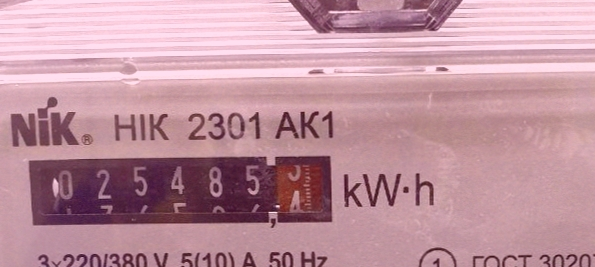0: (54, 168, 76, 203)
2: (93, 168, 114, 203)
4: (166, 164, 188, 198), (286, 189, 305, 217)
5: (241, 163, 263, 201), (129, 165, 150, 200)
8: (205, 164, 226, 202)
screen: (19, 150, 341, 239)
